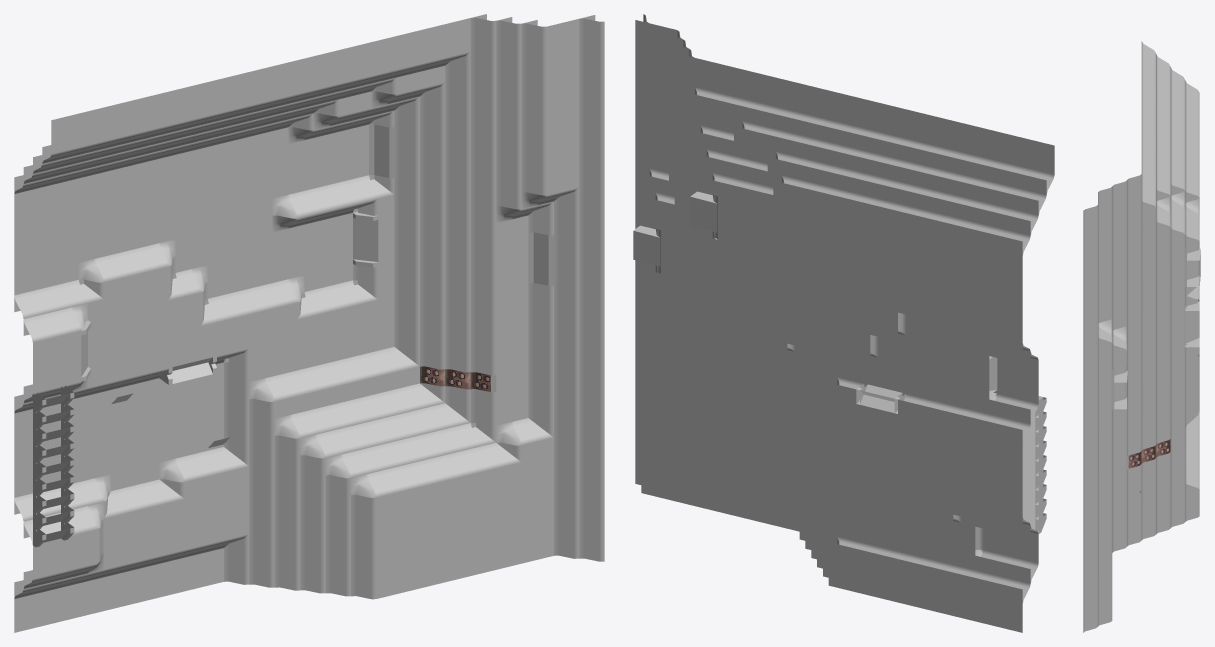
The picture shows the model from 3 angles, left to right: view 1: azimuth 30°, elevation 25°; view 2: azimuth 150°, elevation 25°; view 3: azimuth 270°, elevation 25°; orthographic projection. The views are drawn at different scales.
Parts seen in each view (by area): view 1: map; view 2: map; view 3: map.
Boxes of the visible parts, x1,y1,x2,y2 form: map: [14, 14, 604, 632]; map: [633, 14, 1054, 632]; map: [1083, 41, 1200, 632].
Bounding box in the file's own units: 32 × 32 × 8.06.
